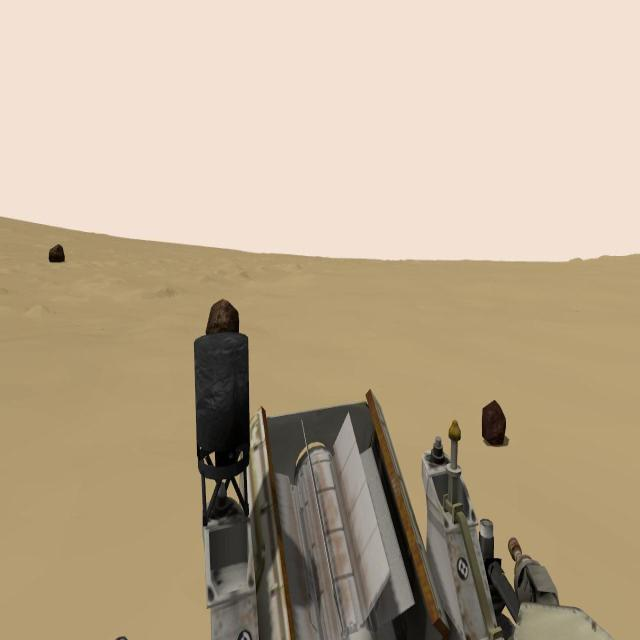rock: (206, 299, 239, 334), (482, 398, 506, 446), (49, 244, 66, 262)
